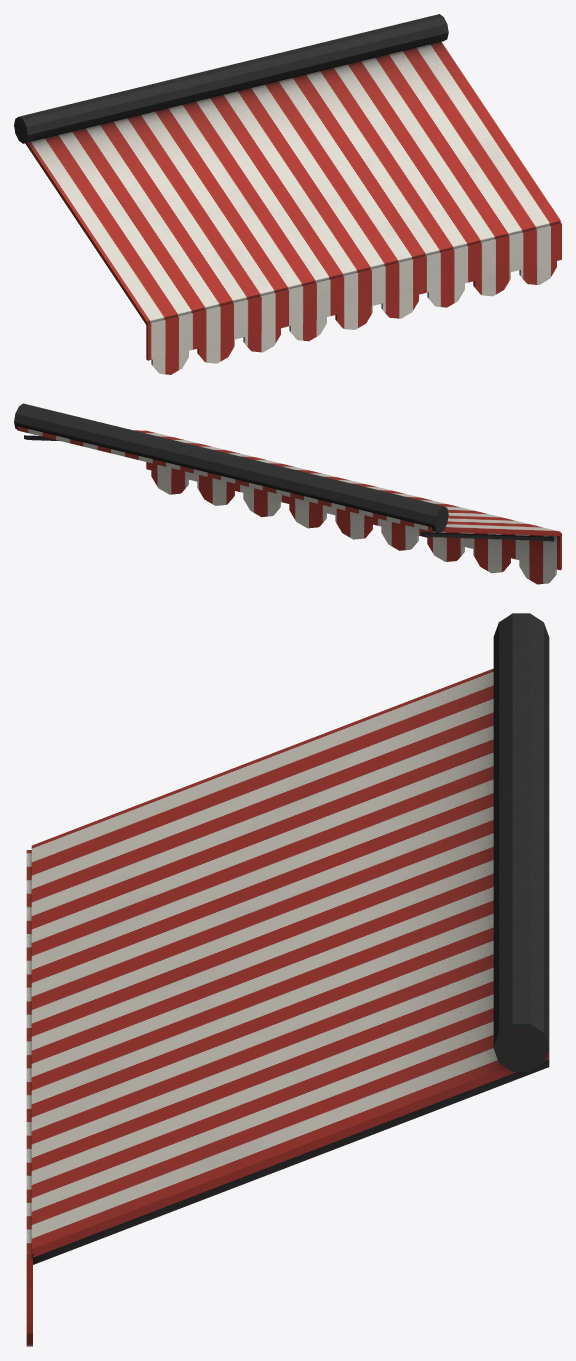
The model's file is awning_24_red.glb.
The picture shows the model from 3 angles, top to bottom: view 1: azimuth 30°, elevation 25°; view 2: azimuth 150°, elevation 25°; view 3: azimuth 270°, elevation 25°; orthographic projection. The views are drawn at different scales.
Parts seen in each view (by area): view 1: awning_24_red; view 2: awning_24_red; view 3: awning_24_red.
Boxes of the visible parts, x1,y1,x2,y2 form: awning_24_red: (14, 14, 561, 374); awning_24_red: (14, 403, 561, 584); awning_24_red: (26, 613, 549, 1346).
Size of the model in its own units: 2.44 by 0.9566 by 1.31.
1 material, 1 textured.
